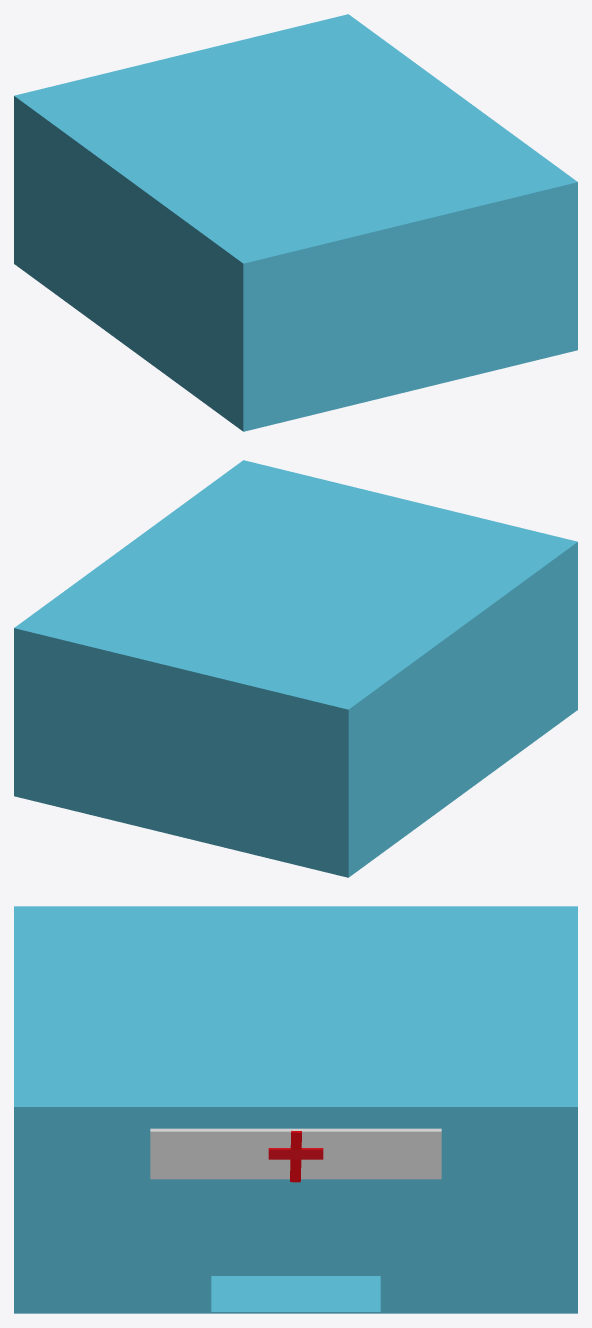
Rendered from Hospital.fbx.
3 views of the same model, one above another, from view 1: azimuth 30°, elevation 25°; view 2: azimuth 150°, elevation 25°; view 3: azimuth 270°, elevation 25° (orthographic). The views are drawn at different scales.
Parts seen in each view (by area): view 1: Cube; view 2: Cube; view 3: Cube, Cube.001, Cube.002.
Part boxes in pixels (<box>): Cube: <box>14,14,577,431</box>; Cube: <box>14,460,577,877</box>; Cube: <box>14,906,577,1313</box>; Cube.001: <box>150,1128,441,1179</box>; Cube.002: <box>268,1148,323,1159</box>.
Size of the model in its own units: 2702 by 1263 by 3125.
